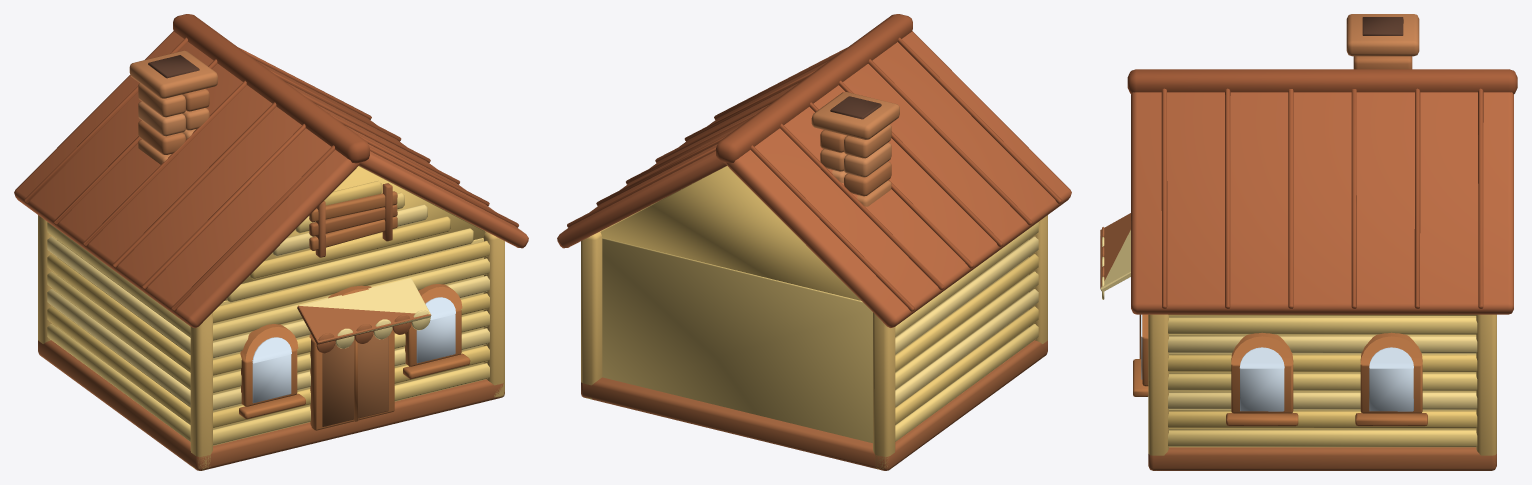
Rendered from bakery.glb.
The picture shows the model from 3 angles, left to right: view 1: azimuth 30°, elevation 25°; view 2: azimuth 150°, elevation 25°; view 3: azimuth 270°, elevation 25°; orthographic projection. The views are drawn at different scales.
Parts seen in each view (by area): view 1: bakery; view 2: bakery; view 3: bakery.
Part boxes in pixels (left/top/right/bottom): bakery: left=14, top=14, right=528, bottom=470; bakery: left=557, top=14, right=1071, bottom=470; bakery: left=1100, top=14, right=1517, bottom=470.
Size of the model in its own units: 2.5 by 2.12 by 2.42.
